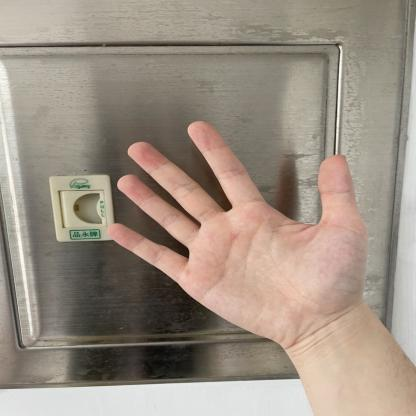bare_hand: (77, 105, 386, 354)
